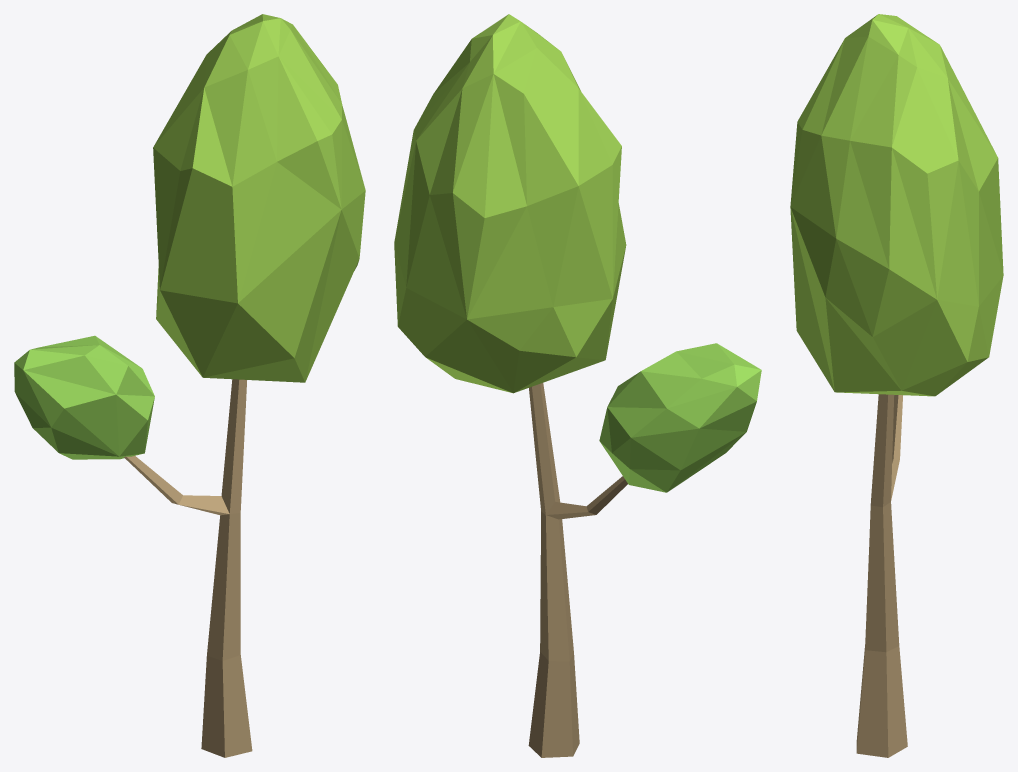
The model's file is Random_Tree_m_03_LOD.fbx.
3 renders of one model, left to right at view 1: azimuth 30°, elevation 25°; view 2: azimuth 150°, elevation 25°; view 3: azimuth 270°, elevation 25°, orthographic. The views are drawn at different scales.
Parts seen in each view (by area): view 1: Random_Tree_m_03_LOD0; view 2: Random_Tree_m_03_LOD0; view 3: Random_Tree_m_03_LOD0.
Boxes of the visible parts, box(x1,y1,x2,y2) form: Random_Tree_m_03_LOD0: box(14, 14, 365, 757); Random_Tree_m_03_LOD0: box(394, 14, 761, 757); Random_Tree_m_03_LOD0: box(790, 14, 1003, 757).
Size of what is drawn, in the model's own units: 446 by 890 by 229.
